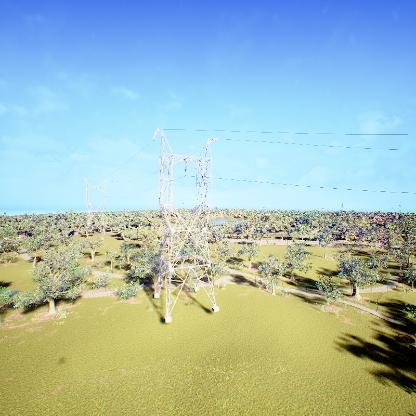tower: (151, 126, 222, 323), (84, 176, 111, 233)
